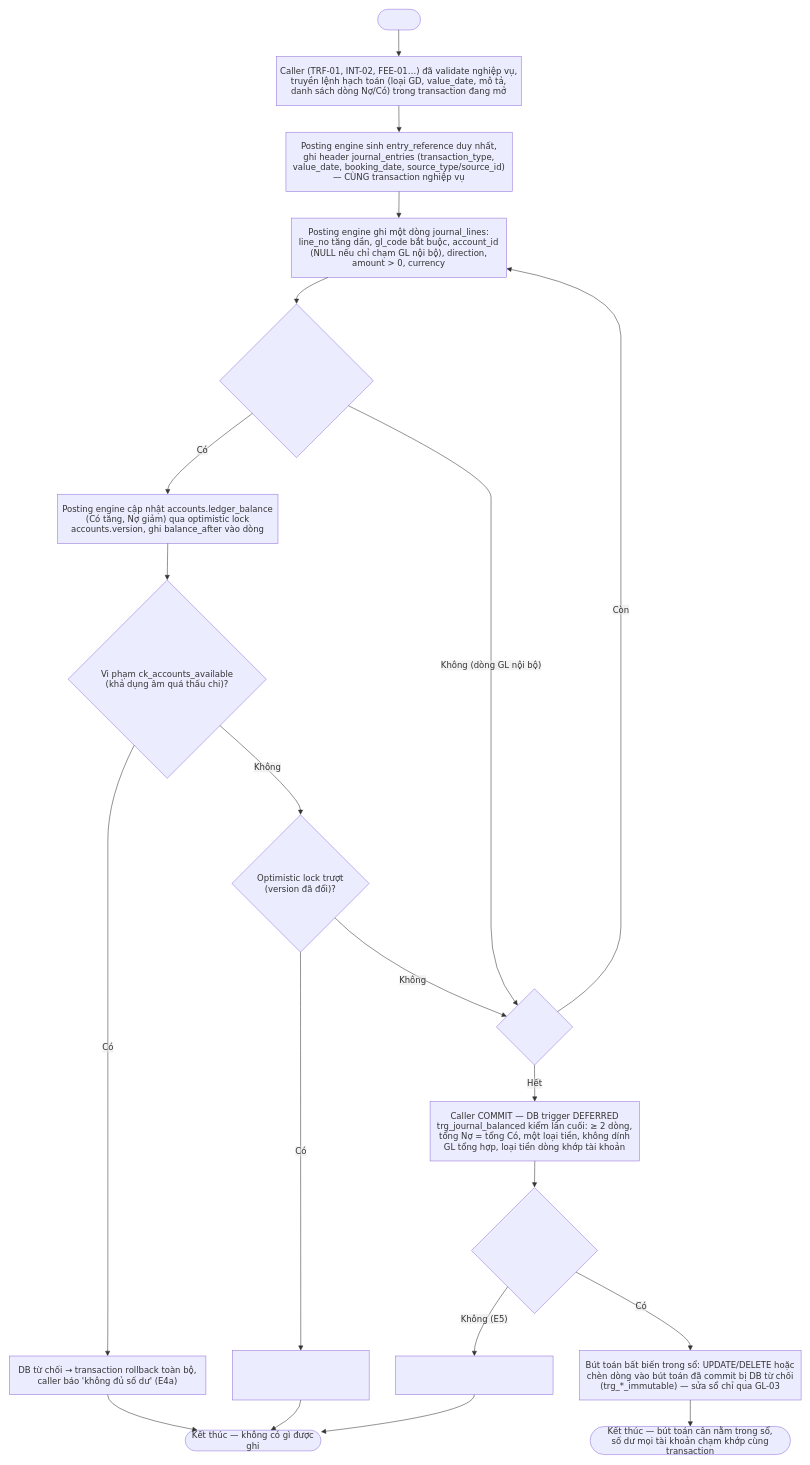
Some shapes in this 810 by 1465 pixel diagram are drawn without their labels. Each missing label, with the box of its shape:
Bút toán cân và hợp lệ tại COMMIT?: (471, 1187, 598, 1314)
Bắt đầu: (377, 9, 421, 30)
Còn dòng trong lệnh?: (496, 988, 573, 1065)
DB rollback TOÀN BỘ transaction — không tồn tại bút toán ghi dở: (395, 1355, 553, 1395)
Dòng có account_id (tài khoản khách hàng)?: (219, 303, 373, 458)
Rollback toàn bộ, caller retry theo chính sách tối đa N lần (E4b): (232, 1350, 369, 1400)
